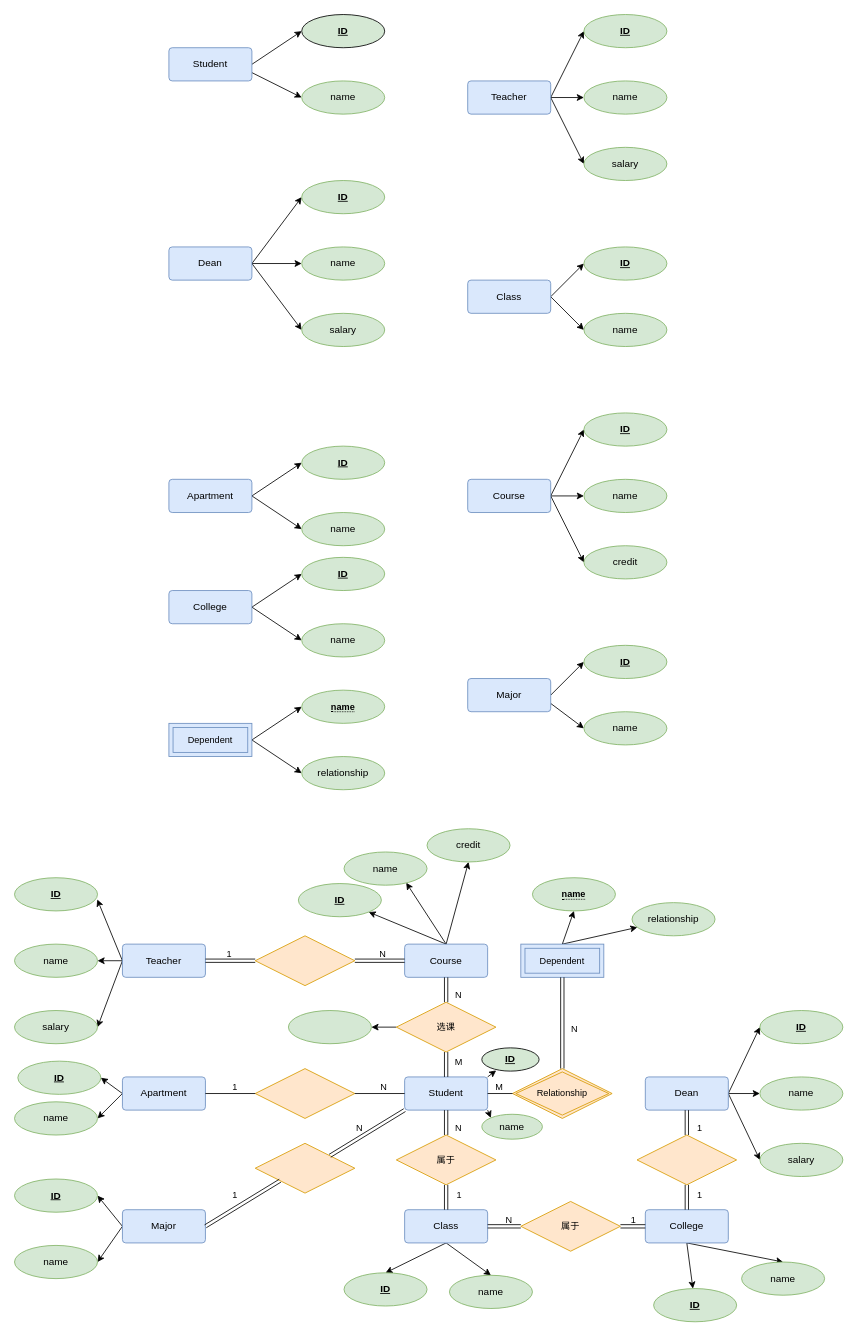
The diagram is 857 pixels wide and 1336 high, and some of its shapes have lost their labels. The centre of each missing label's shape, as x and y in pixels:
"grade" belongs at point (329, 1027).
"住宿" belongs at point (304, 1093).
"授课" belongs at point (304, 960).
"管理" belongs at point (686, 1159).
"选择" belongs at point (304, 1167).
